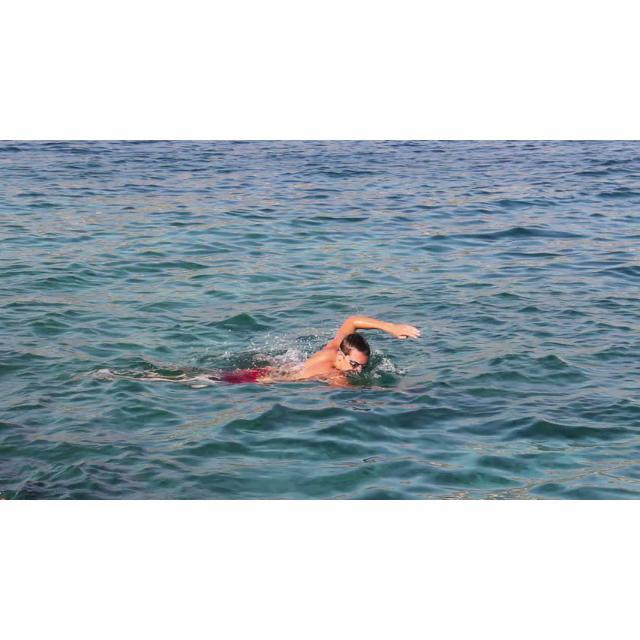human: (200, 315, 422, 387)
